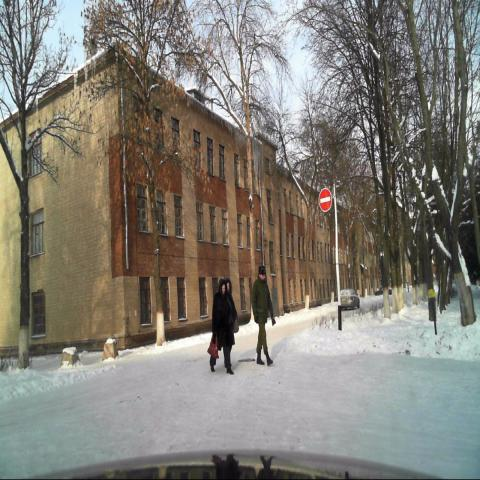3_1: (318, 188, 332, 212)
